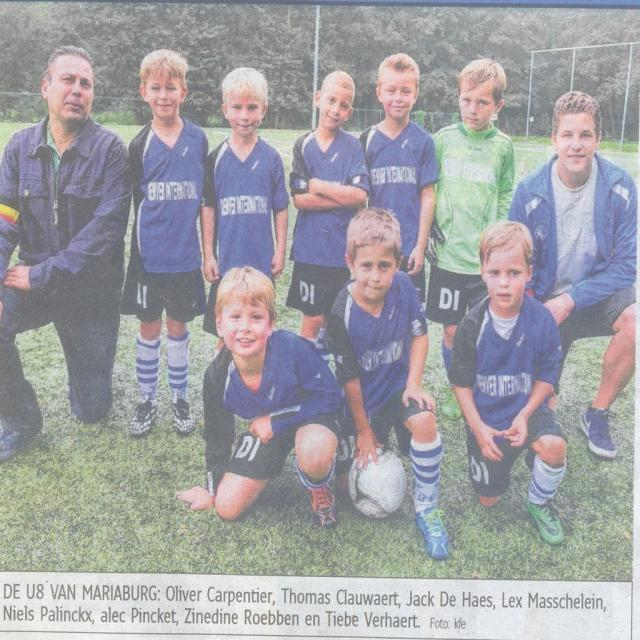football: (347, 444, 416, 527)
